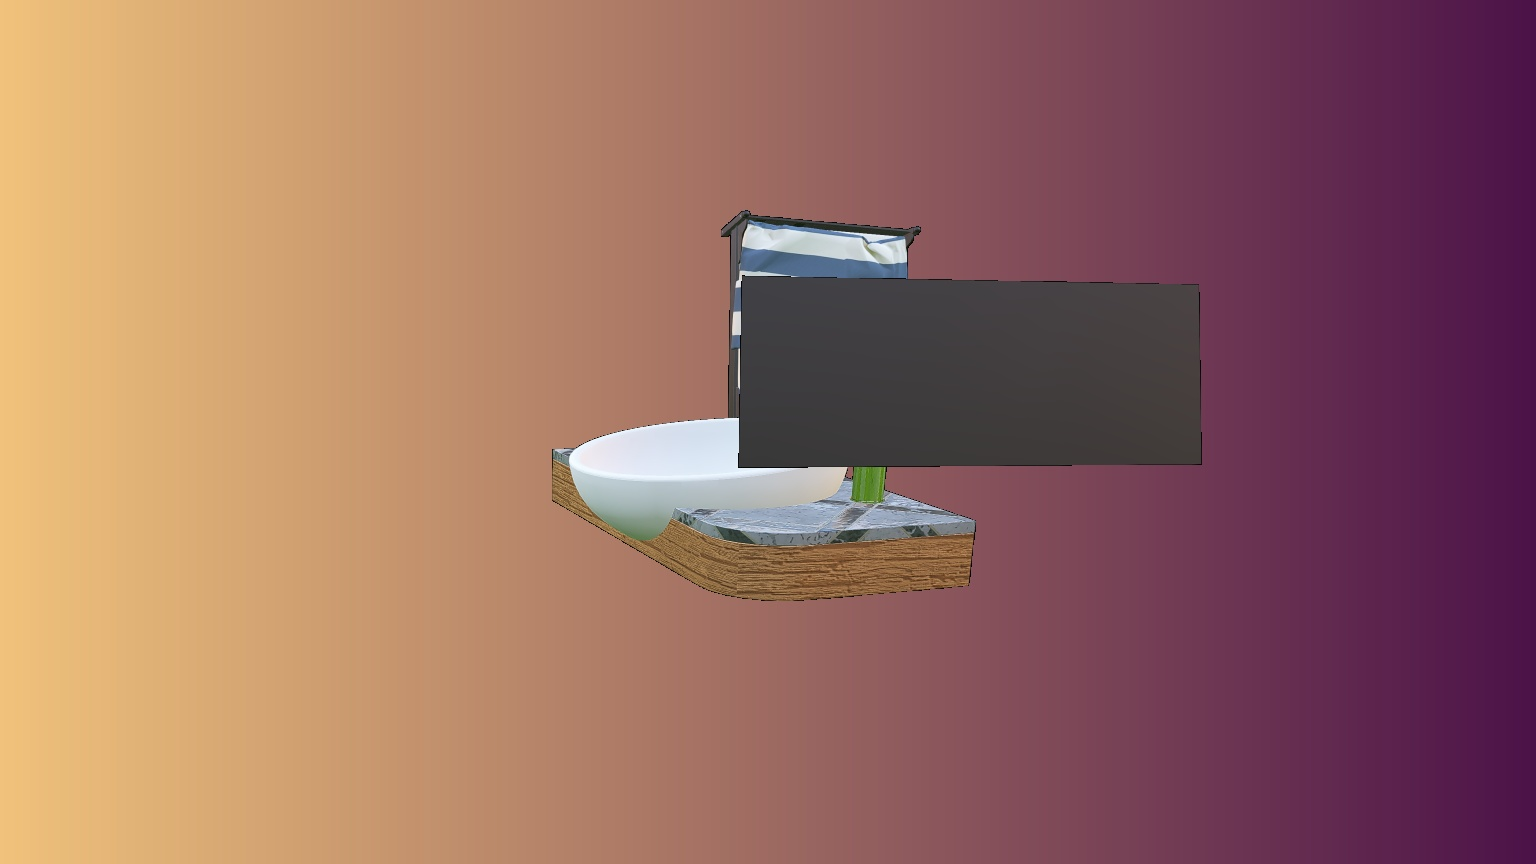fregadero: (551, 323, 977, 602)
teclado: (738, 275, 1202, 468)
